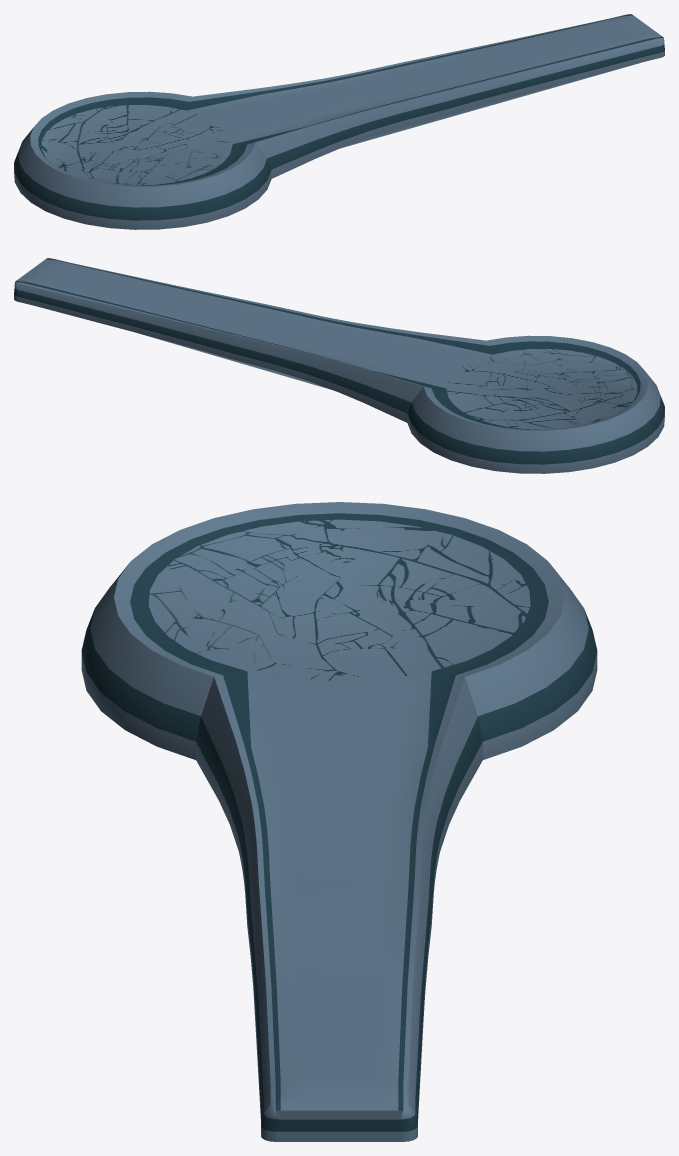
File: platformblend2Broked.fbx
3 views of the same model, one above another, from view 1: azimuth 30°, elevation 25°; view 2: azimuth 150°, elevation 25°; view 3: azimuth 270°, elevation 25° (orthographic). The views are drawn at different scales.
Parts seen in each view (by area): view 1: MDL_Platform; view 2: MDL_Platform; view 3: MDL_Platform.
Boxes of the visible parts, x1,y1,x2,y2 form: MDL_Platform: (14, 14, 664, 229); MDL_Platform: (14, 258, 664, 473); MDL_Platform: (81, 502, 597, 1141).
Bounding box in the file's own units: 5528 × 309 × 2001.
